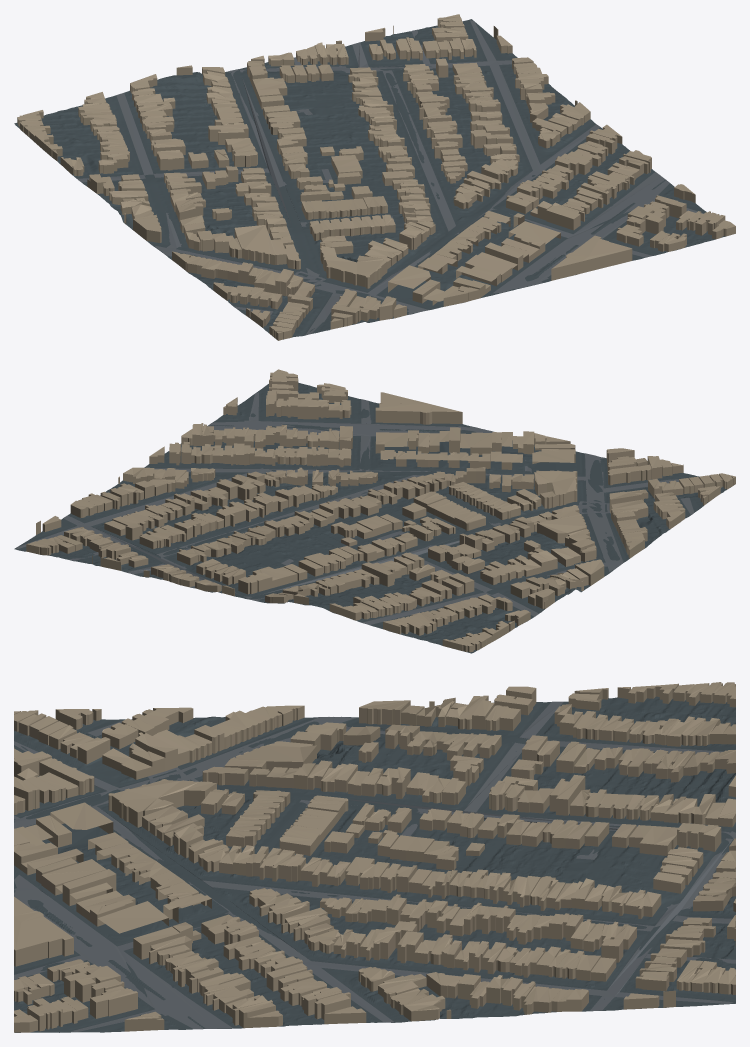
Rendered from epsg26910-1430-10870.lod0.glb.
The picture shows the model from 3 angles, top to bottom: view 1: azimuth 30°, elevation 25°; view 2: azimuth 150°, elevation 25°; view 3: azimuth 270°, elevation 25°; orthographic projection. The views are drawn at different scales.
Parts seen in each view (by area): view 1: epsg26910-1430-10870-lod0; view 2: epsg26910-1430-10870-lod0; view 3: epsg26910-1430-10870-lod0.
Part boxes in pixels (x1=…): epsg26910-1430-10870-lod0: x1=14, y1=14, x2=735, y2=340; epsg26910-1430-10870-lod0: x1=14, y1=369, x2=735, y2=653; epsg26910-1430-10870-lod0: x1=14, y1=682, x2=735, y2=1032.
Size of the model in its own units: 384 by 37.95 by 384.
